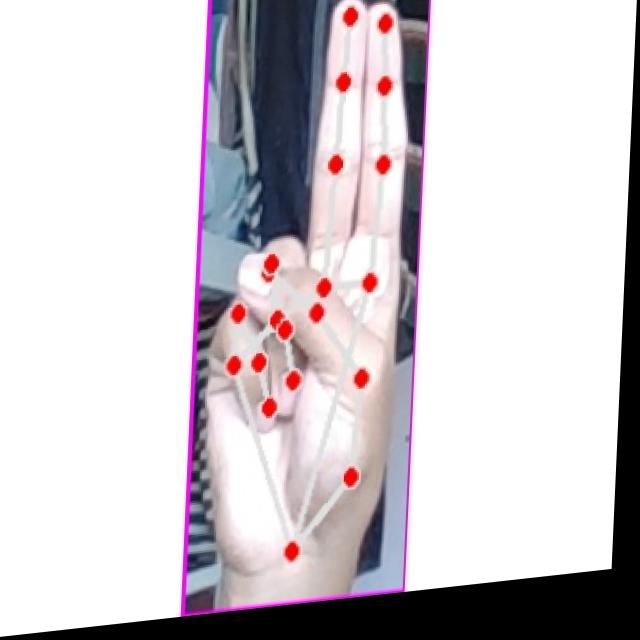U: (201, 0, 419, 594)
